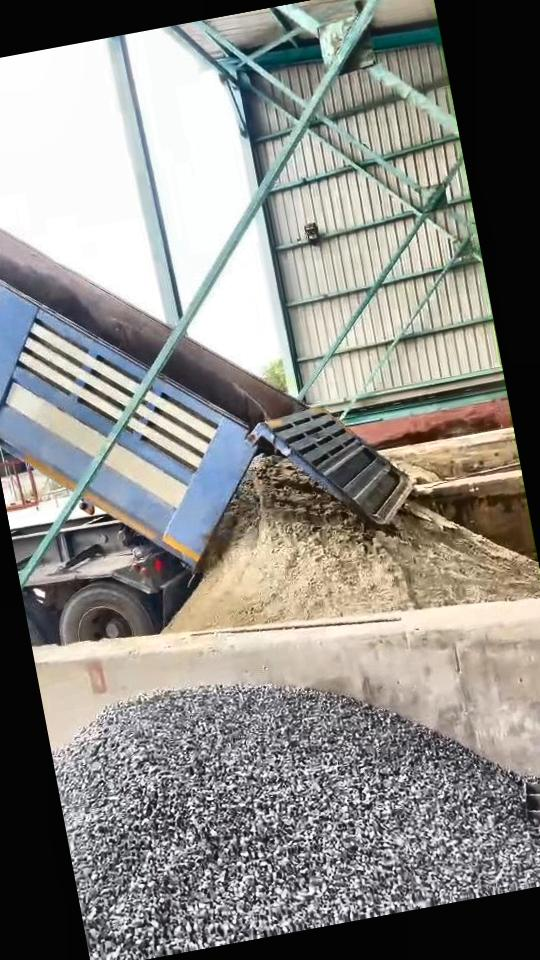gravel: (52, 686, 540, 960)
sand: (169, 458, 540, 631), (400, 463, 440, 484)
